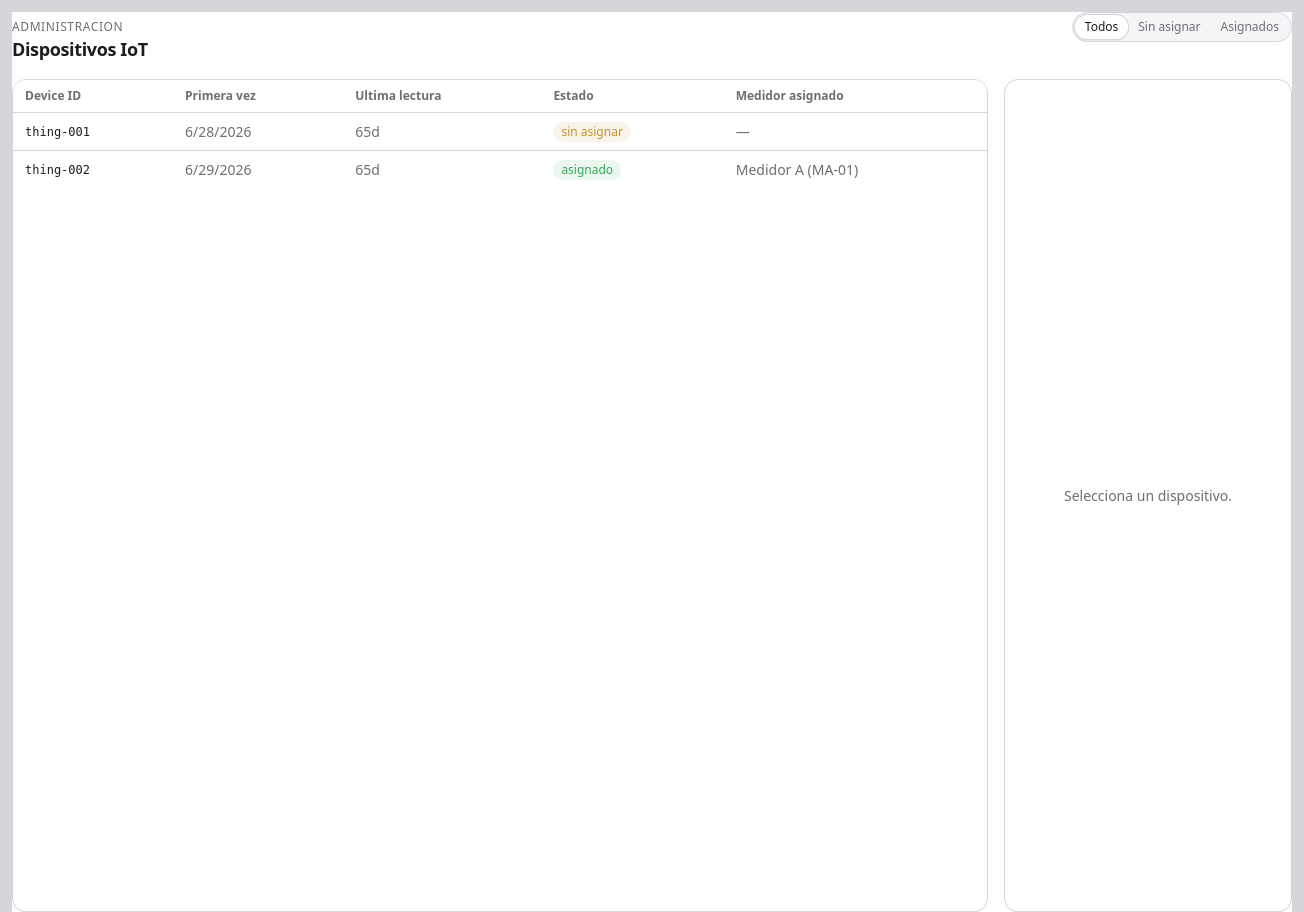
IotDevicesPage › filters to show only unassigned devices
This screenshot has width=1304, height=912.
Click the tab "Sin asignar": (1169, 27) [1128, 15, 1211, 39]
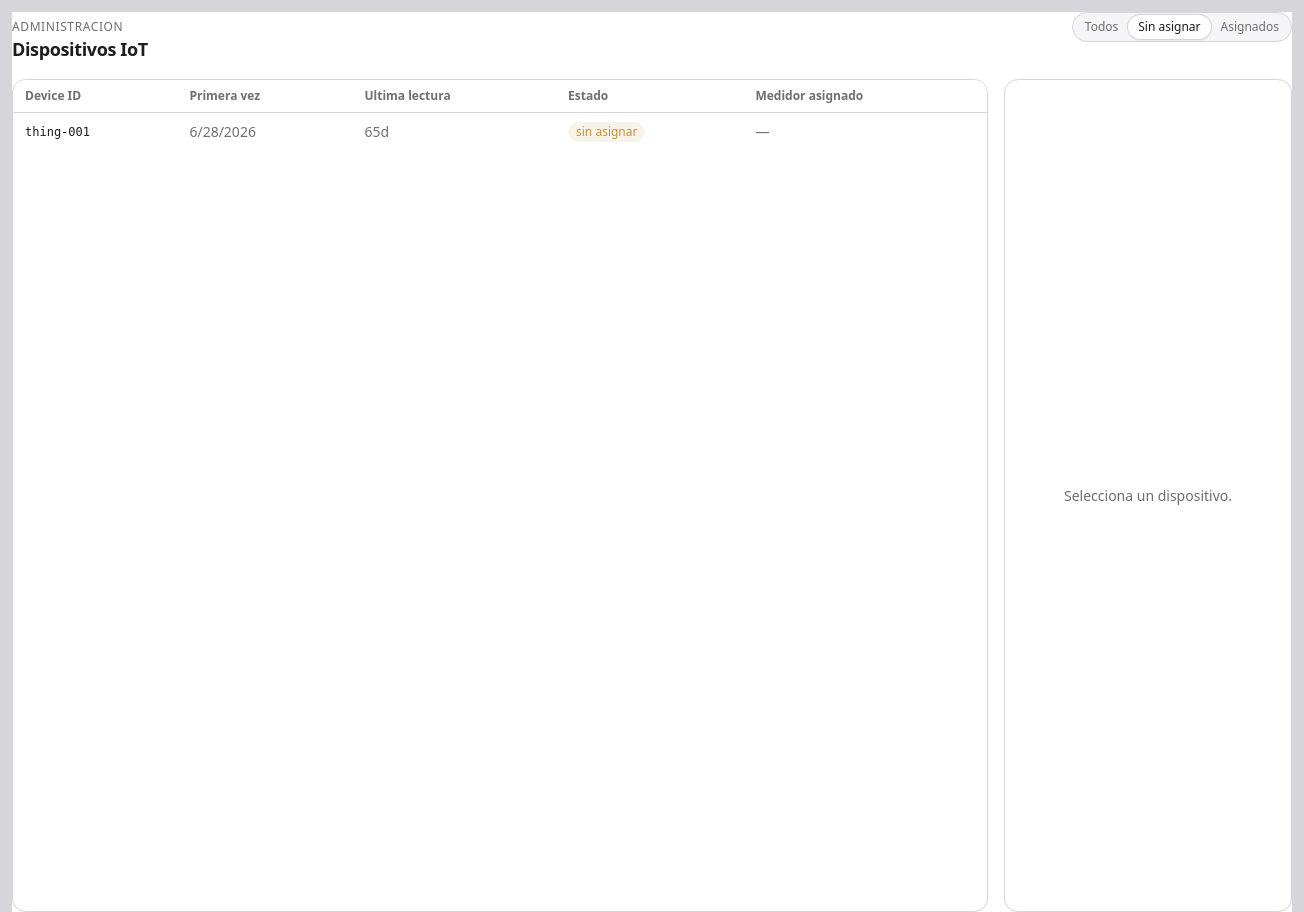
expect the text "thing-001" is shown: met, box [13, 112, 177, 150]
expect the text "thing-002" is gone: met
